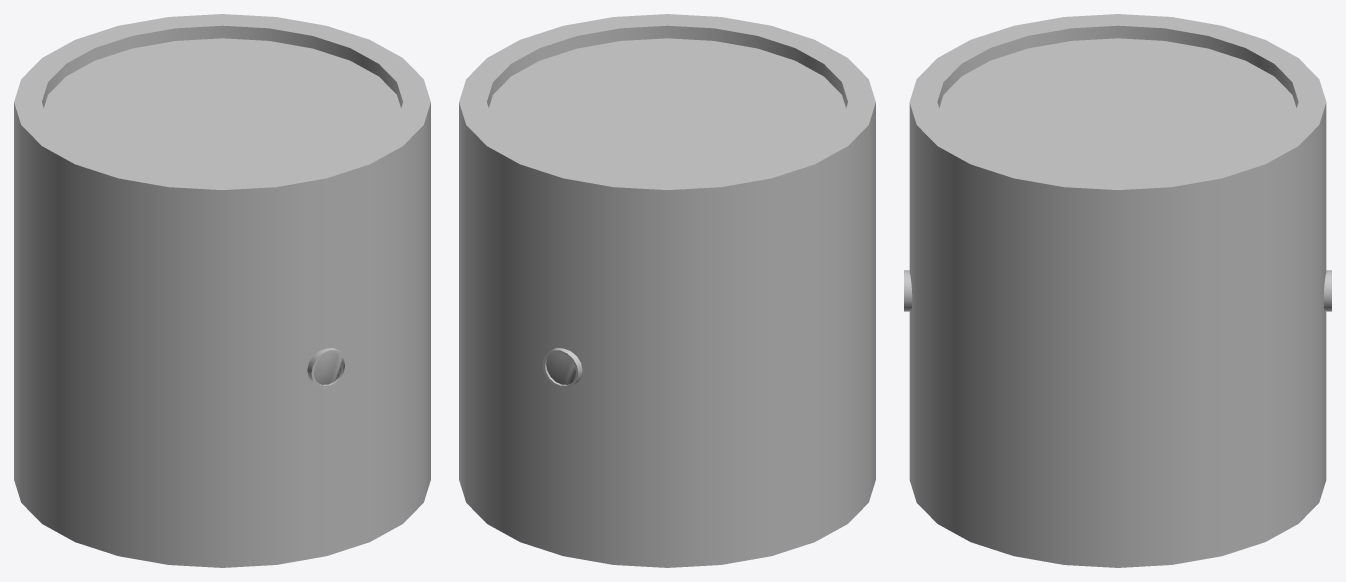
The model's file is aquila_crew_s1p5_2_1.obj.
3 renders of one model, left to right at view 1: azimuth 30°, elevation 25°; view 2: azimuth 150°, elevation 25°; view 3: azimuth 270°, elevation 25°, orthographic.
Parts seen in each view (by area): view 1: aquila_crew_s1p5_2_1, aquila_crew_s1p5_2_1_windows; view 2: aquila_crew_s1p5_2_1, aquila_crew_s1p5_2_1_windows; view 3: aquila_crew_s1p5_2_1.
Part boxes in pixels (box(x1,y1,x2,y2)): aquila_crew_s1p5_2_1: box(14, 14, 430, 567); aquila_crew_s1p5_2_1_windows: box(314, 352, 343, 384); aquila_crew_s1p5_2_1: box(459, 14, 875, 567); aquila_crew_s1p5_2_1_windows: box(546, 352, 575, 384); aquila_crew_s1p5_2_1: box(904, 14, 1331, 567).
Size of the model in its own units: 1.88 by 1.88 by 1.92.
